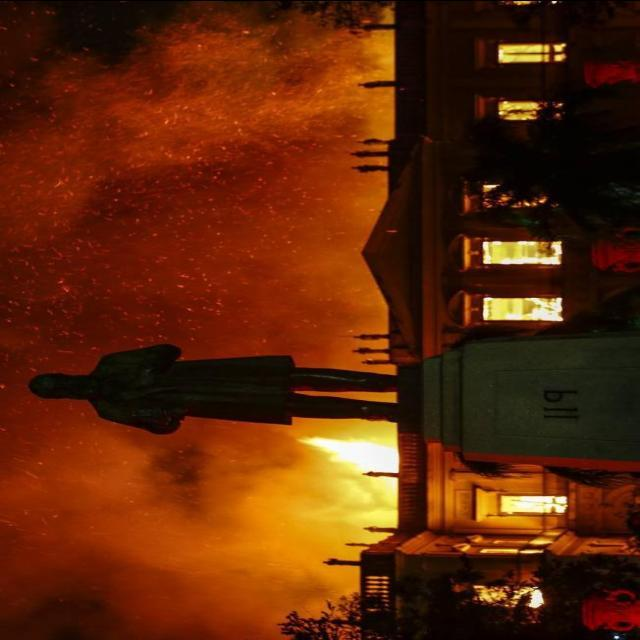Fire: (286, 428, 398, 491), (478, 294, 564, 320), (482, 239, 562, 265), (502, 493, 566, 513), (512, 586, 544, 609)
